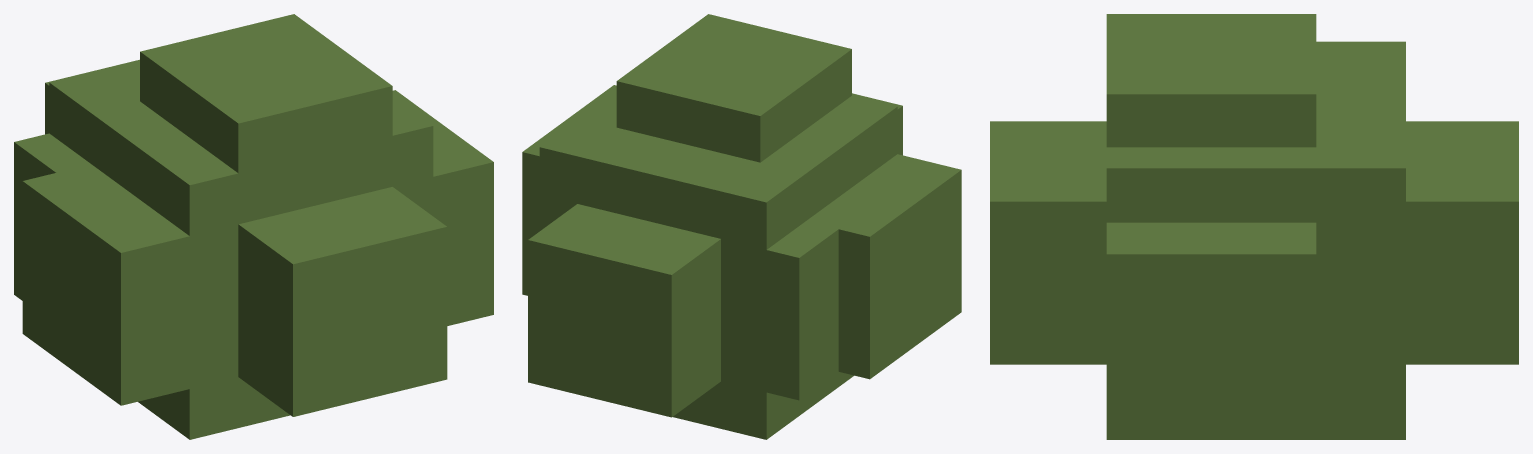
Rendered from Bush02.fbx.
3 views of the same model, side by side, from view 1: azimuth 30°, elevation 25°; view 2: azimuth 150°, elevation 25°; view 3: azimuth 270°, elevation 25° (orthographic). The views are drawn at different scales.
Parts seen in each view (by area): view 1: Bush02; view 2: Bush02; view 3: Bush02.
Boxes of the visible parts, <box> form: Bush02: <box>14,14,493,439</box>; Bush02: <box>522,14,961,439</box>; Bush02: <box>990,14,1518,439</box>.
Size of the model in its own units: 153 by 120 by 177.
